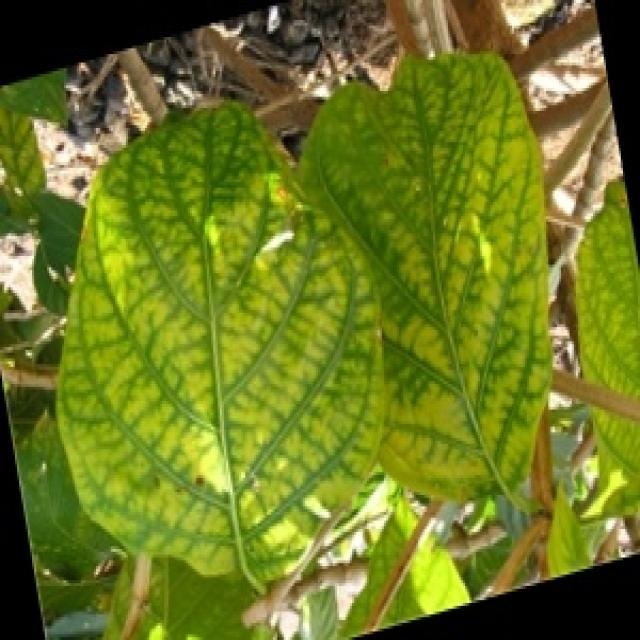Chlorosis: (67, 111, 569, 577)
